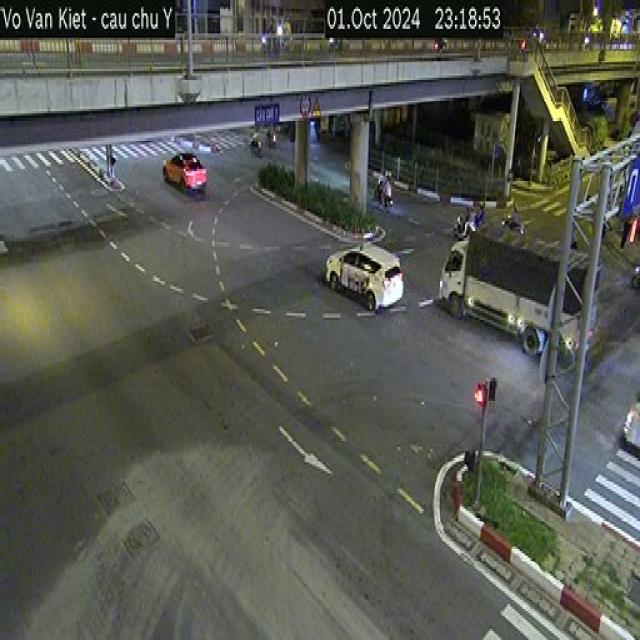car: (325, 242, 404, 311), (162, 151, 206, 193), (621, 398, 639, 453)
truck: (438, 220, 600, 362)
